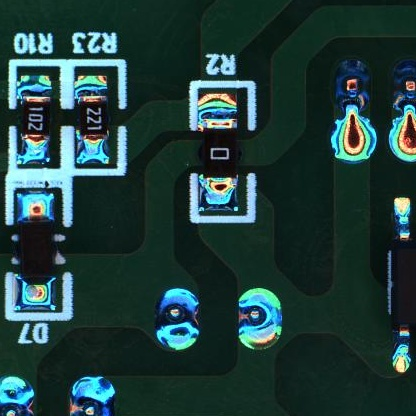spot: (153, 287, 199, 349), (238, 289, 284, 348), (334, 57, 373, 107), (70, 377, 115, 416), (1, 376, 34, 416), (394, 61, 416, 105)
